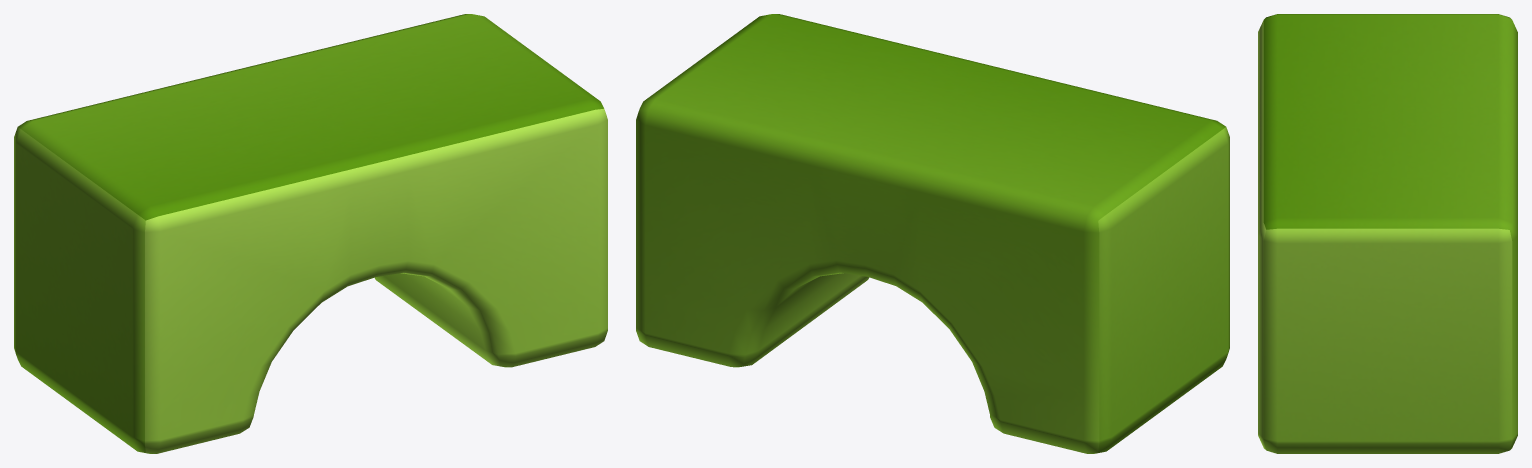
Rendered from BlockBridgeGreen.fbx.
3 views of the same model, side by side, from view 1: azimuth 30°, elevation 25°; view 2: azimuth 150°, elevation 25°; view 3: azimuth 270°, elevation 25° (orthographic). The views are drawn at different scales.
Parts seen in each view (by area): view 1: Cube.005; view 2: Cube.005; view 3: Cube.005.
Part boxes in pixels (box(x1,y1,x2,y2)): Cube.005: box(14, 14, 607, 453); Cube.005: box(636, 14, 1229, 453); Cube.005: box(1258, 14, 1517, 453).
Size of the model in its own units: 400 by 200 by 200.
